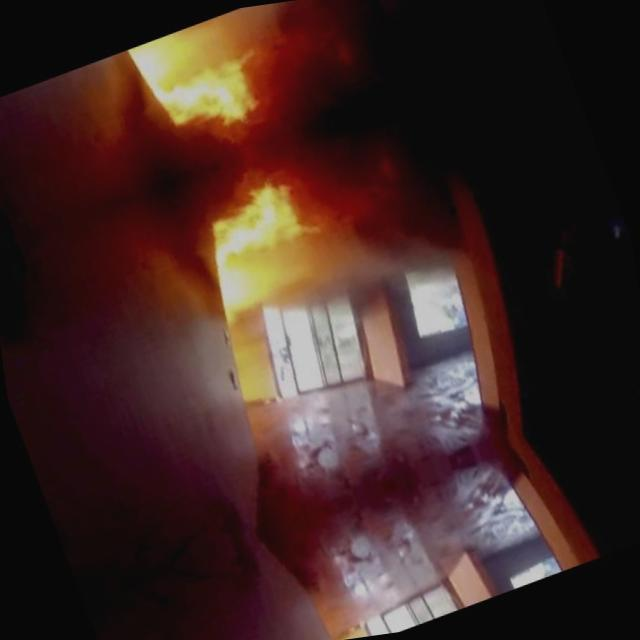fire: (69, 0, 398, 383)
